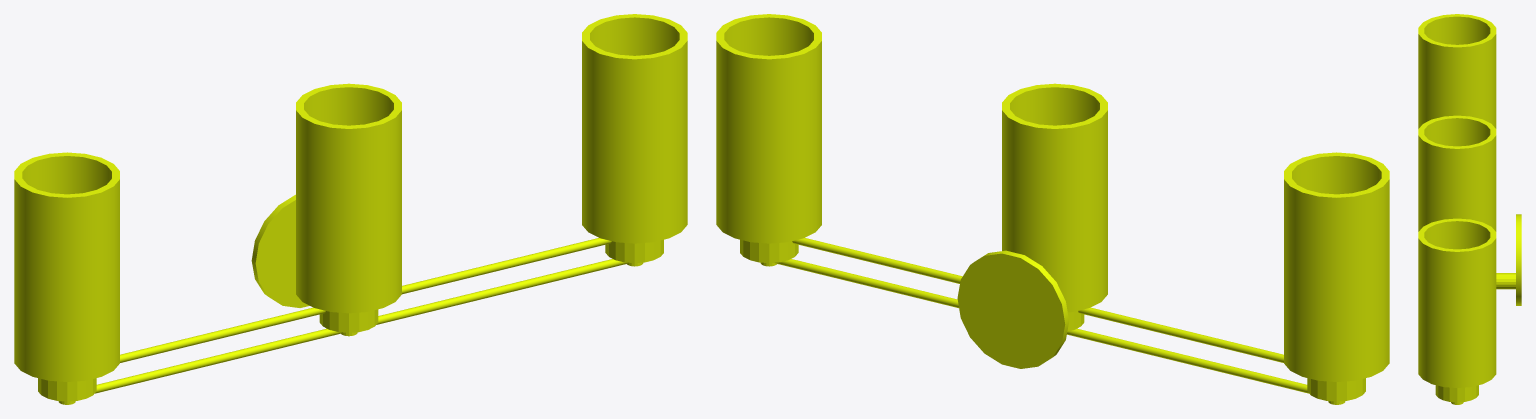
Rendered from Light_5.FBX.
3 renders of one model, left to right at view 1: azimuth 30°, elevation 25°; view 2: azimuth 150°, elevation 25°; view 3: azimuth 270°, elevation 25°, orthographic. The views are drawn at different scales.
Visible parts, largest first — view 1: bathroom light; view 2: bathroom light; view 3: bathroom light.
Part boxes in pixels (box(x1,y1,x2,y2)): bathroom light: box(14, 14, 687, 404); bathroom light: box(716, 14, 1389, 404); bathroom light: box(1418, 14, 1521, 404).
Bounding box in the file's own units: 0.869 × 0.2873 × 0.1595.
